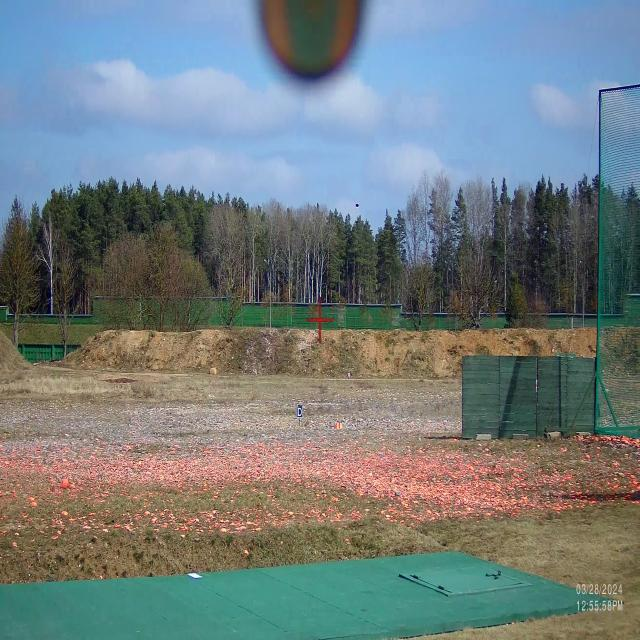entire: (352, 196, 363, 214)
